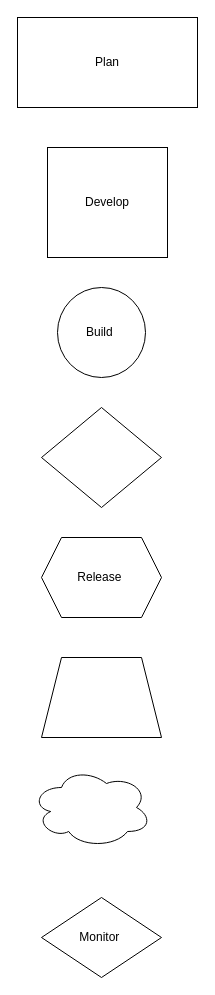
The diagram is 215 pixels wide and 995 high, and some of its shapes have lost their labels. The box of each missing label's shape, as (x1, y1, x2, y2) in pixels:
Deploys: (40, 656, 162, 738)
Operate: (30, 766, 152, 848)
Test: (40, 406, 162, 508)
